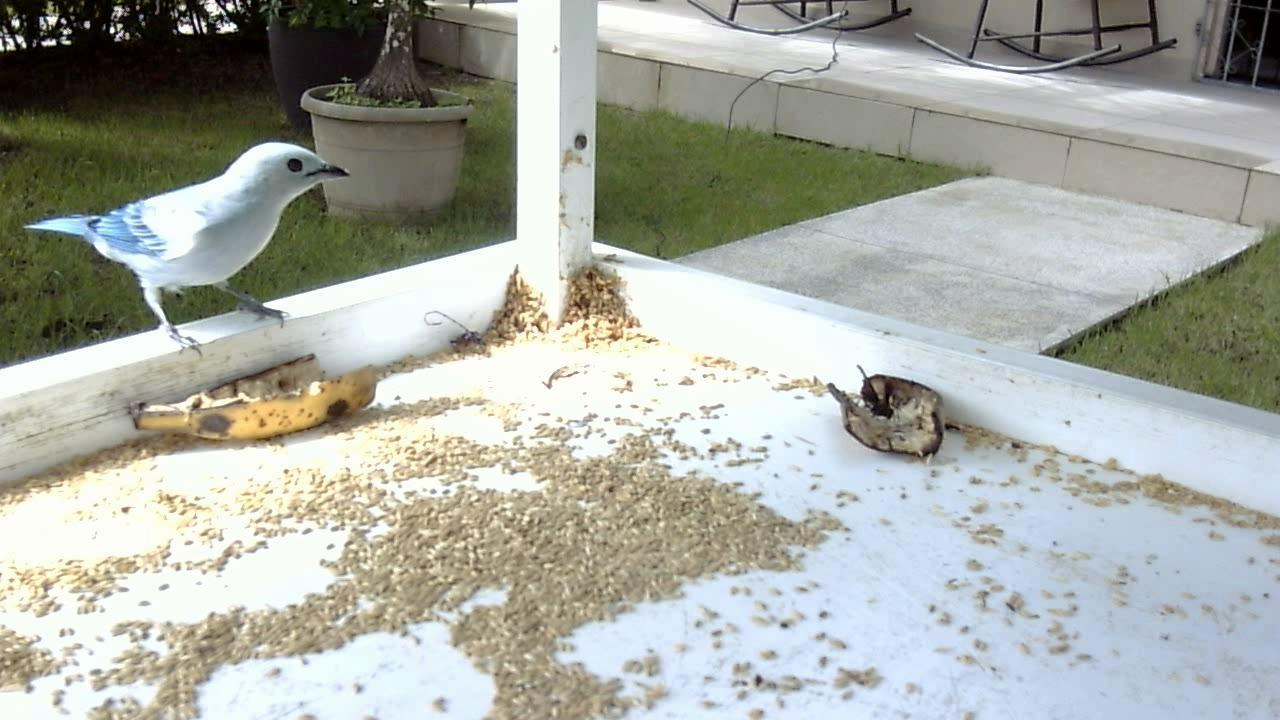sanhaco_da_amazonia: (18, 135, 349, 360)
